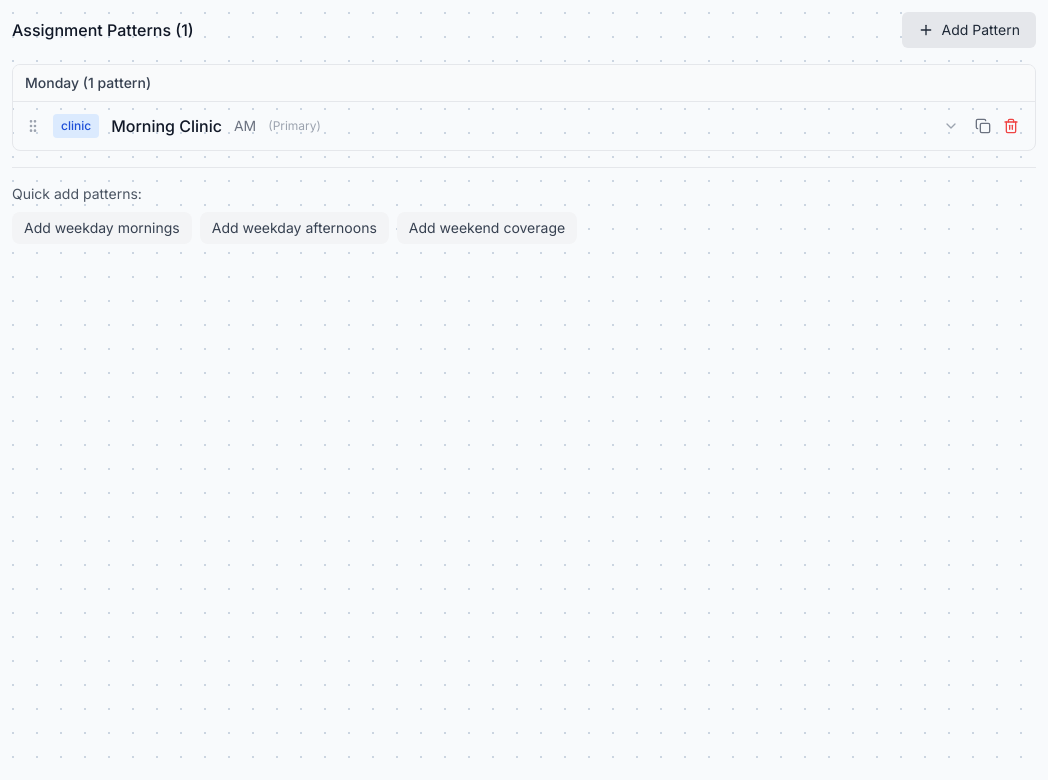
Scenario: PatternEditor › should expand pattern details when clicked
Click the text "Morning Clinic": point(166, 126) [111, 114, 222, 138]
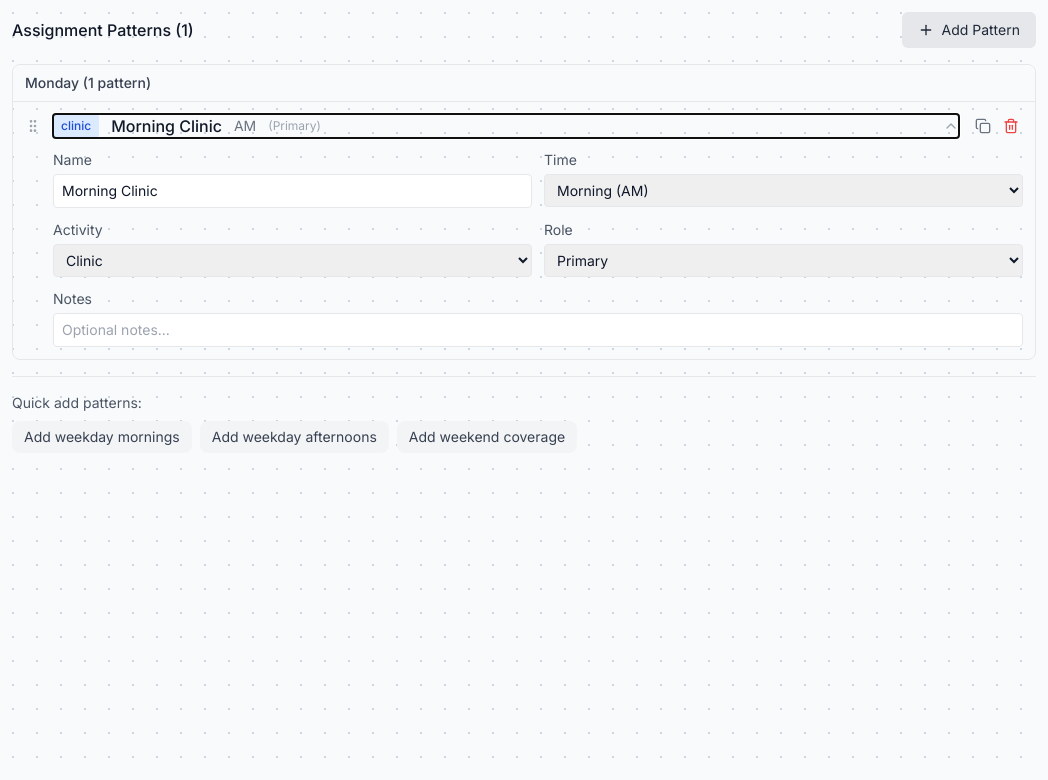
Now the text "Role" is shown, box [544, 221, 573, 238]
Now the text "Notes" is shown, box [53, 290, 92, 307]
